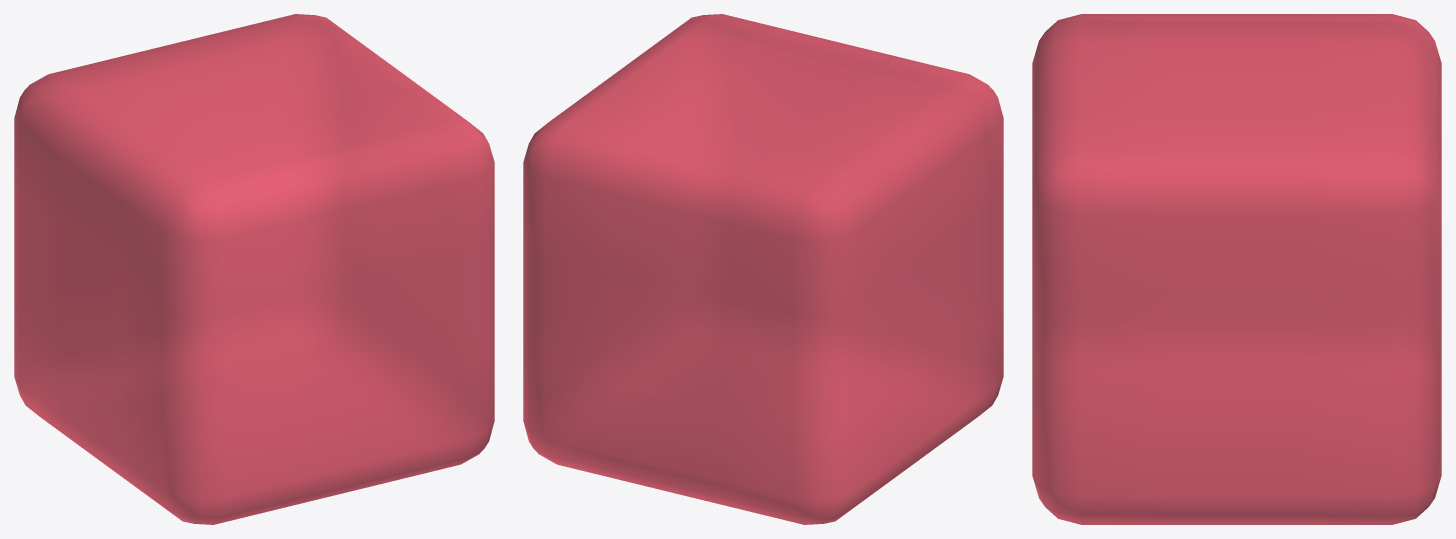
Rendered from SlockJellyLow.fbx.
3 views of the same model, side by side, from view 1: azimuth 30°, elevation 25°; view 2: azimuth 150°, elevation 25°; view 3: azimuth 270°, elevation 25° (orthographic). The views are drawn at different scales.
Parts seen in each view (by area): view 1: SlockJellyLow; view 2: SlockJellyLow; view 3: SlockJellyLow.
Boxes of the visible parts, x1,y1,x2,y2 form: SlockJellyLow: (14, 14, 494, 524); SlockJellyLow: (523, 14, 1003, 524); SlockJellyLow: (1032, 14, 1441, 524).
Bounding box in the file's own units: 1 × 1 × 1.
